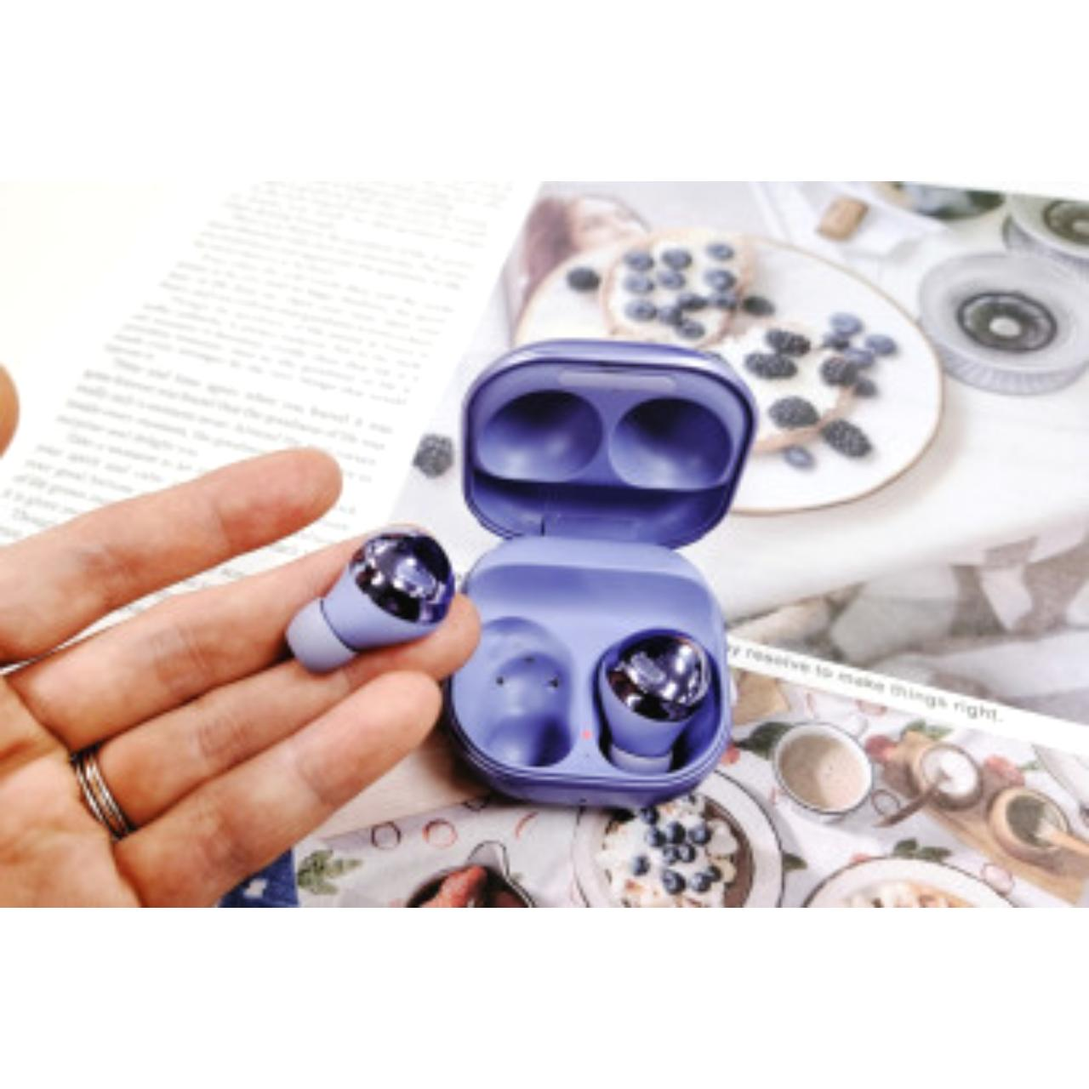Buds: (426, 335, 760, 821)
Buds_Units: (281, 527, 459, 676), (594, 625, 721, 777)
